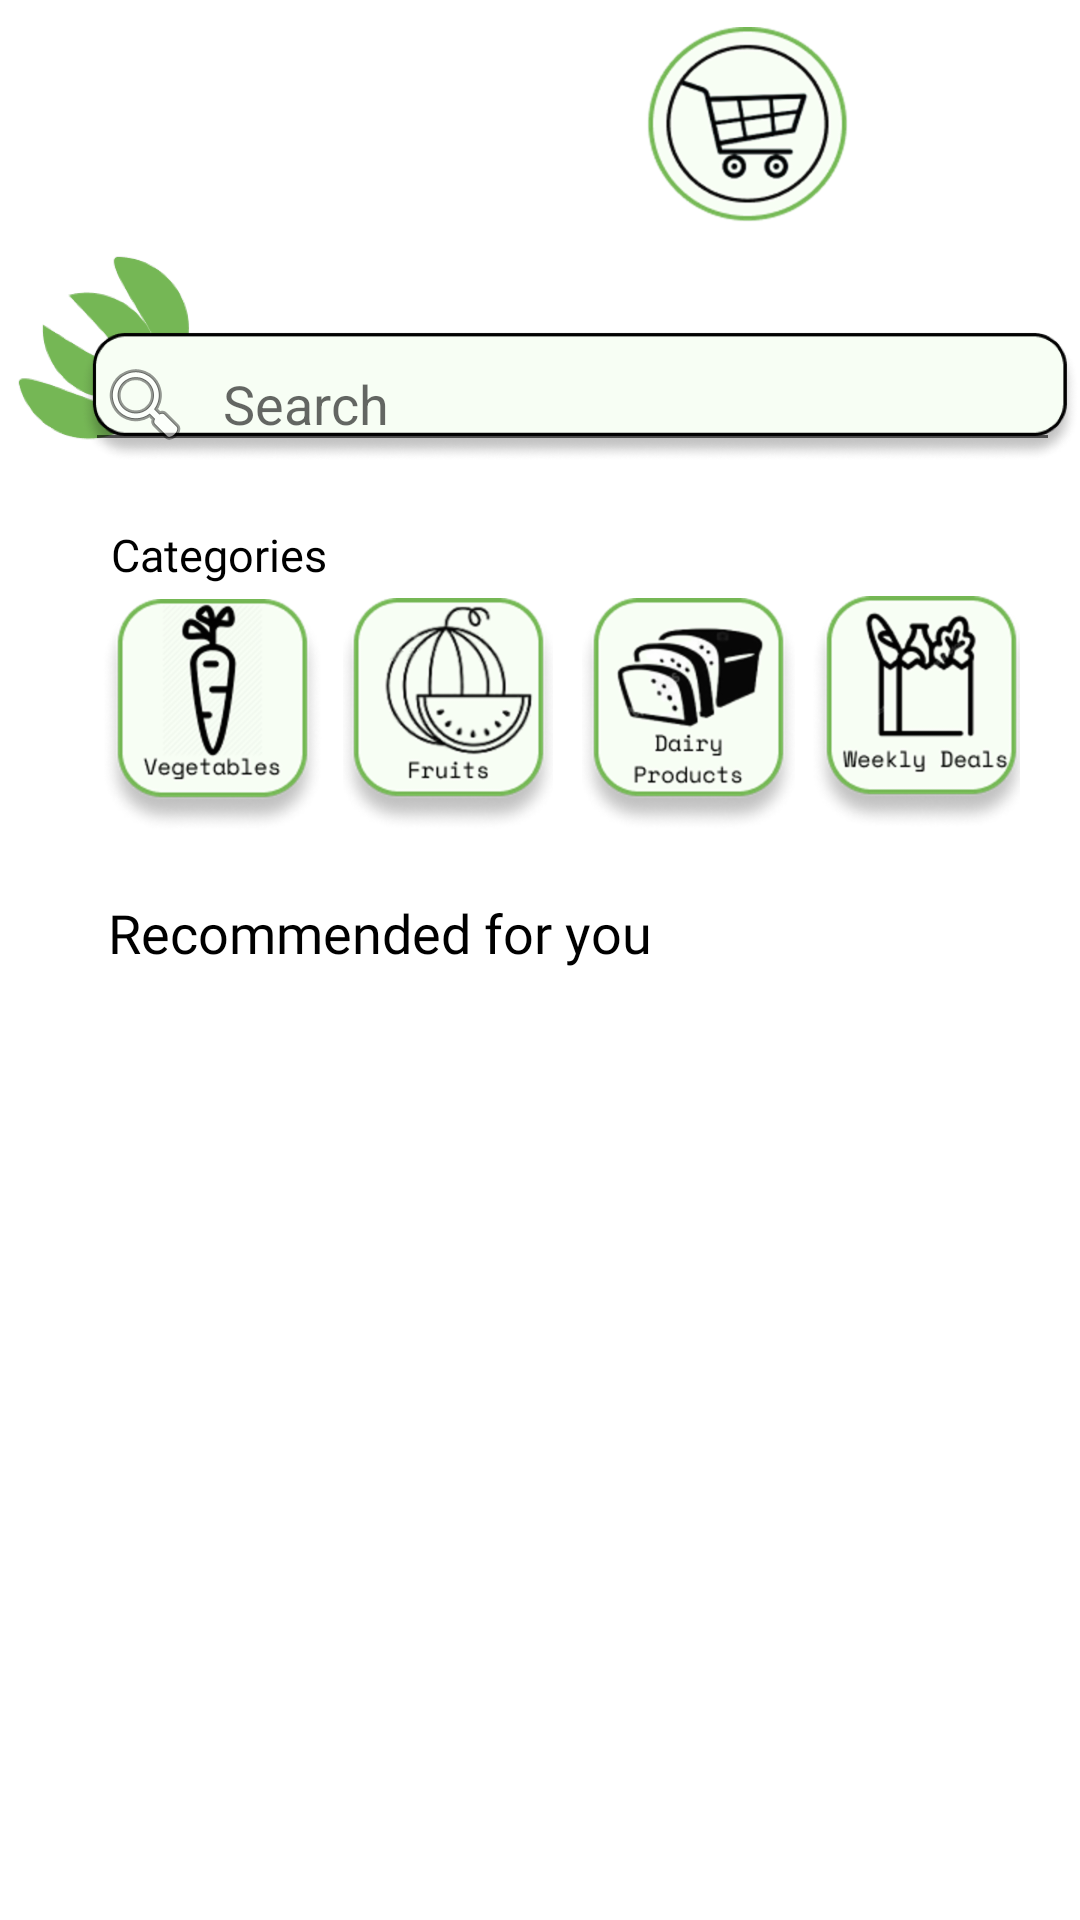

Where icons sit on this 1080x1920 app screen, as (x1,y1,x2,y2):
cart: (647,27,848,222)
